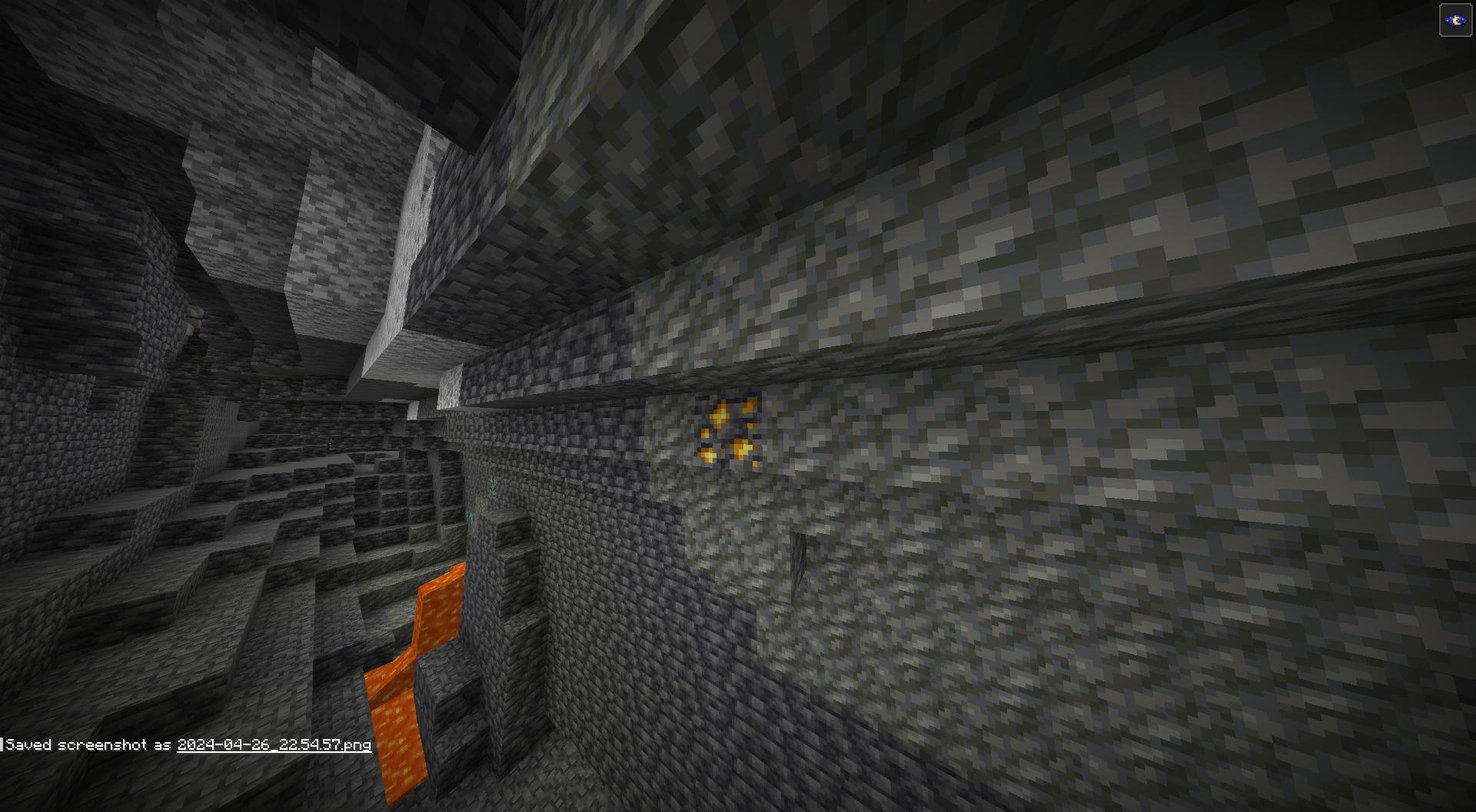diamond ore: (460, 506, 479, 529)
gold ore: (697, 390, 765, 464)
